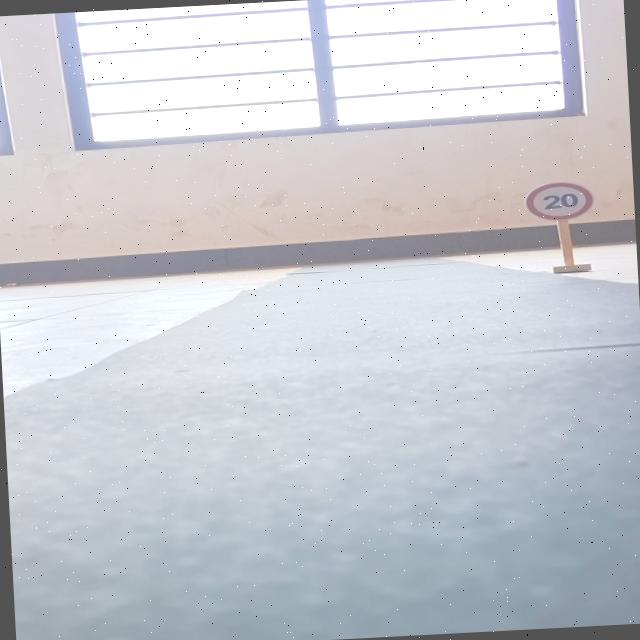Speed20: (516, 177, 600, 226)
